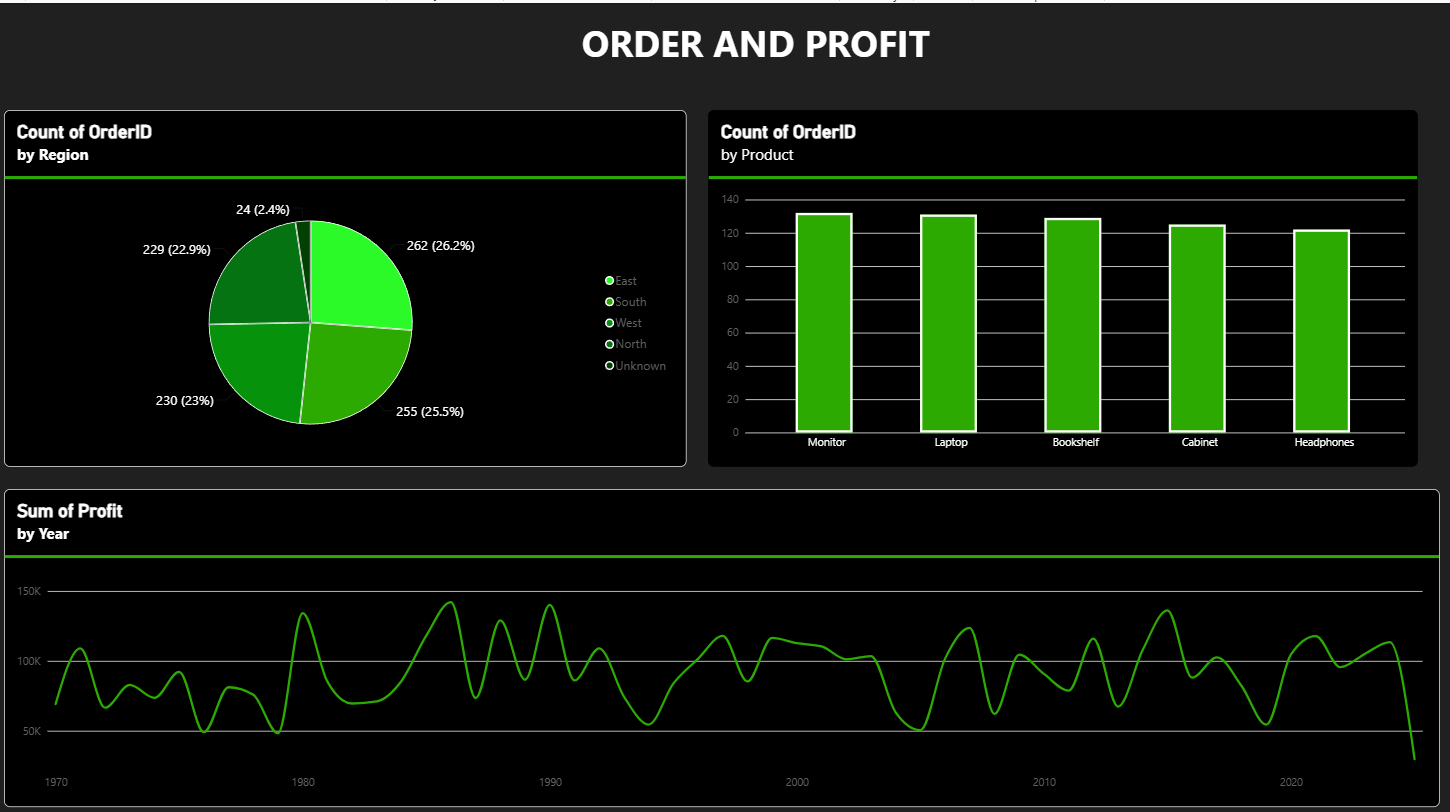

The dashboard page shown, as its layout file describes it:
{"tool":"powerbi","page":{"name":"Page 1","canvas":[1920,1080],"ordinal":0},"visuals":[{"type":"pieChart","fields":{"Category":["summative ass.Region"],"Y":["CountNonNull(summative ass.OrderID)"]},"box":[446.5,133,590,447.8],"z":0},{"type":"clusteredColumnChart","fields":{"Category":["summative ass.Product"],"Y":["CountNonNull(summative ass.OrderID)"]},"box":[1076,133,567.7,447.8],"z":1},{"type":"lineChart","fields":{"Category":["summative ass.OrderDate.Variation.Date Hierarchy.Year"],"Y":["Sum(summative ass.Profit)"]},"box":[446.5,600.6,1197.2,446.5],"z":2},{"type":"textbox","box":[0,0,1920.3,93.5],"z":3}]}

Visuals, with their boxes in screenshot pixels (x1, y1, x2, y2), scaled from the page's 1920x1080 canvas onto the 1450x812 screenshot:
pieChart - summative ass.Region x CountNonNull(summative ass.OrderID): box=[337, 100, 783, 437]
clusteredColumnChart - summative ass.Product x CountNonNull(summative ass.OrderID): box=[813, 100, 1241, 437]
lineChart - summative ass.OrderDate.Variation.Date Hierarchy.Year x Sum(summative ass.Profit): box=[337, 452, 1241, 787]
textbox: box=[0, 0, 1449, 70]
